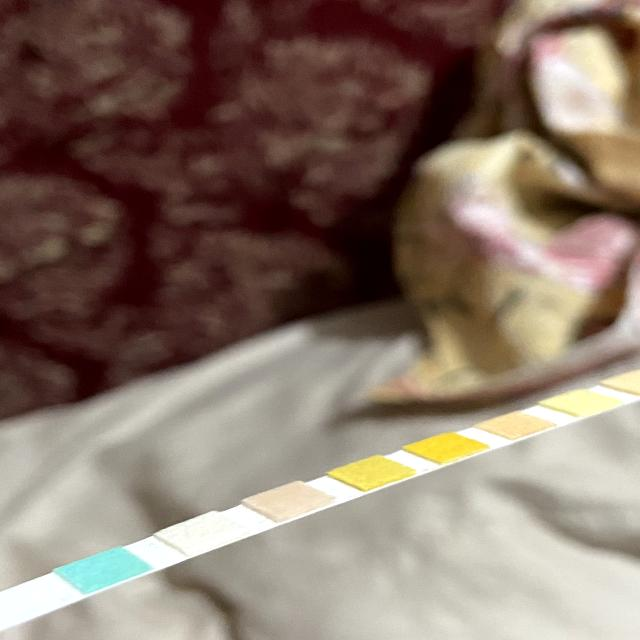Bilirubin: (186, 520, 222, 547)
Blood: (429, 438, 465, 457)
Glucose: (86, 555, 120, 586)
Ketone: (272, 488, 306, 510)
Protein: (564, 393, 598, 410)
SpGravity: (353, 461, 391, 484)
Urobilinogen: (625, 374, 640, 391)
pH: (499, 414, 534, 434)
